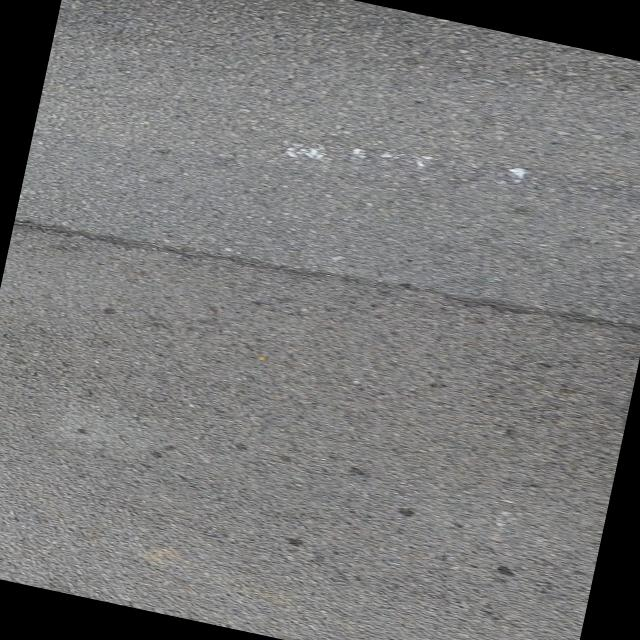Retak-Melintang: (12, 215, 640, 325)
